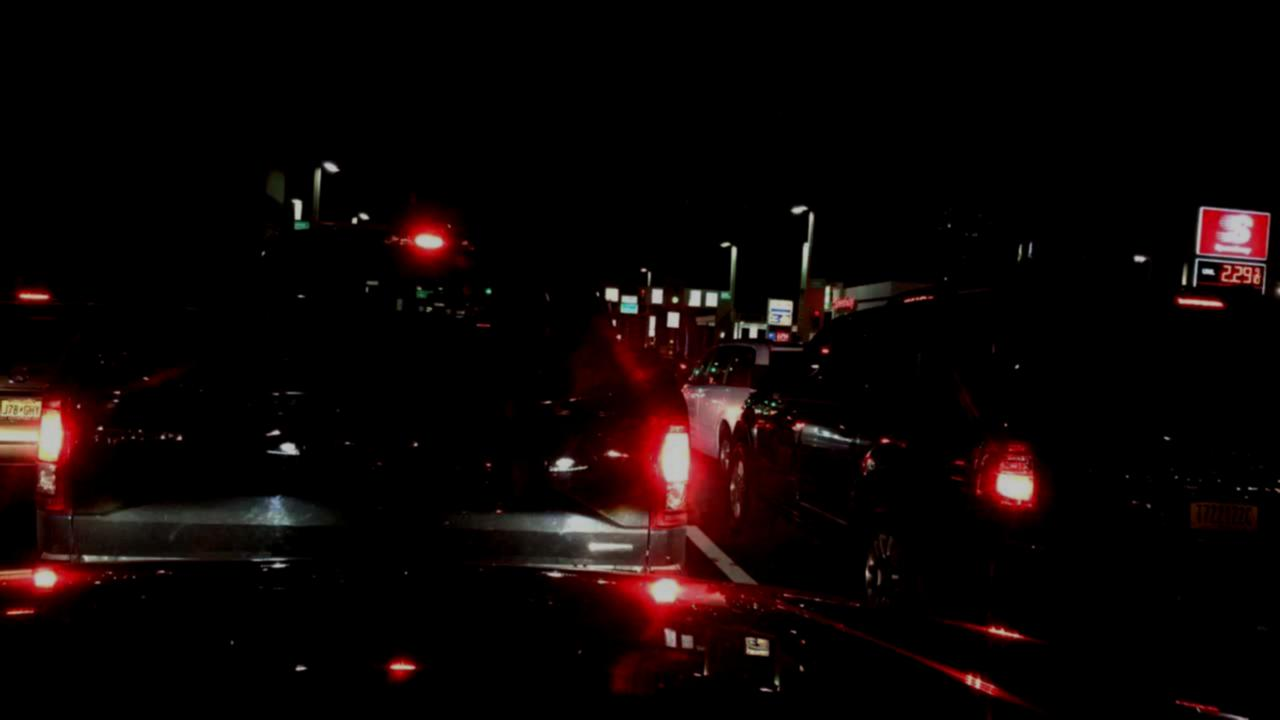ford: (330, 424, 422, 468)
